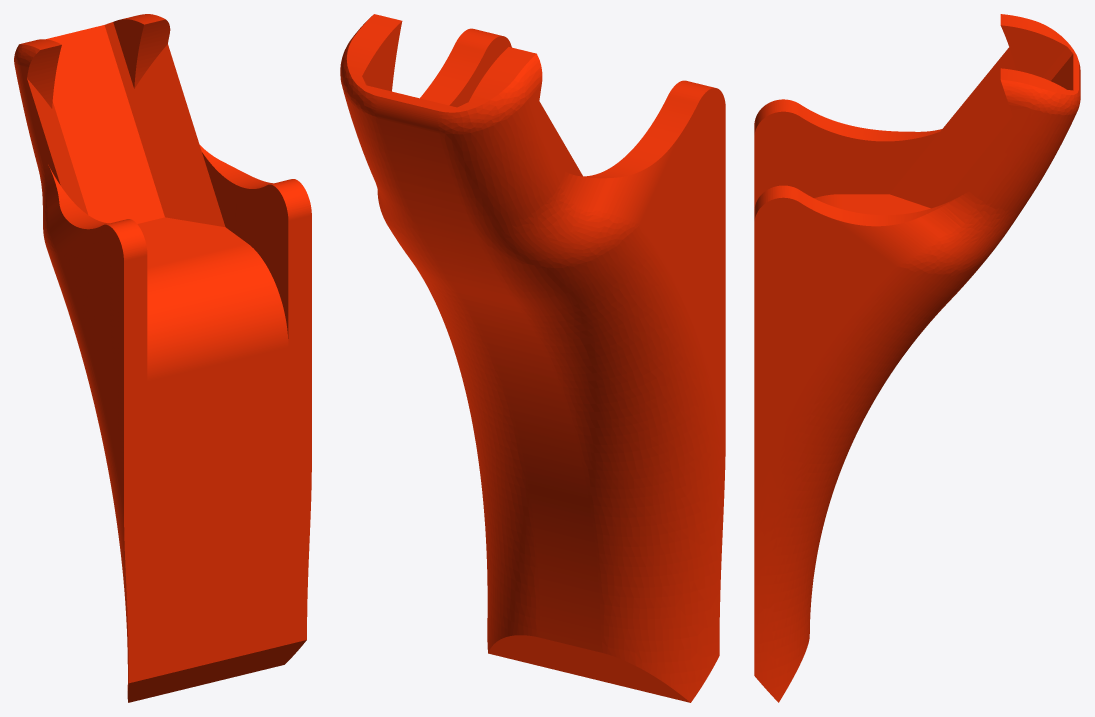
The model's file is R_Hand_Thumb_Proximal_visuals_ALLEX_Right_Hand_Thumb_Proximal_Pad.obj.
The picture shows the model from 3 angles, left to right: view 1: azimuth 30°, elevation 25°; view 2: azimuth 150°, elevation 25°; view 3: azimuth 270°, elevation 25°; orthographic projection. The views are drawn at different scales.
Bounding box in the file's own units: 0.016 × 0.0467 × 0.0224.
